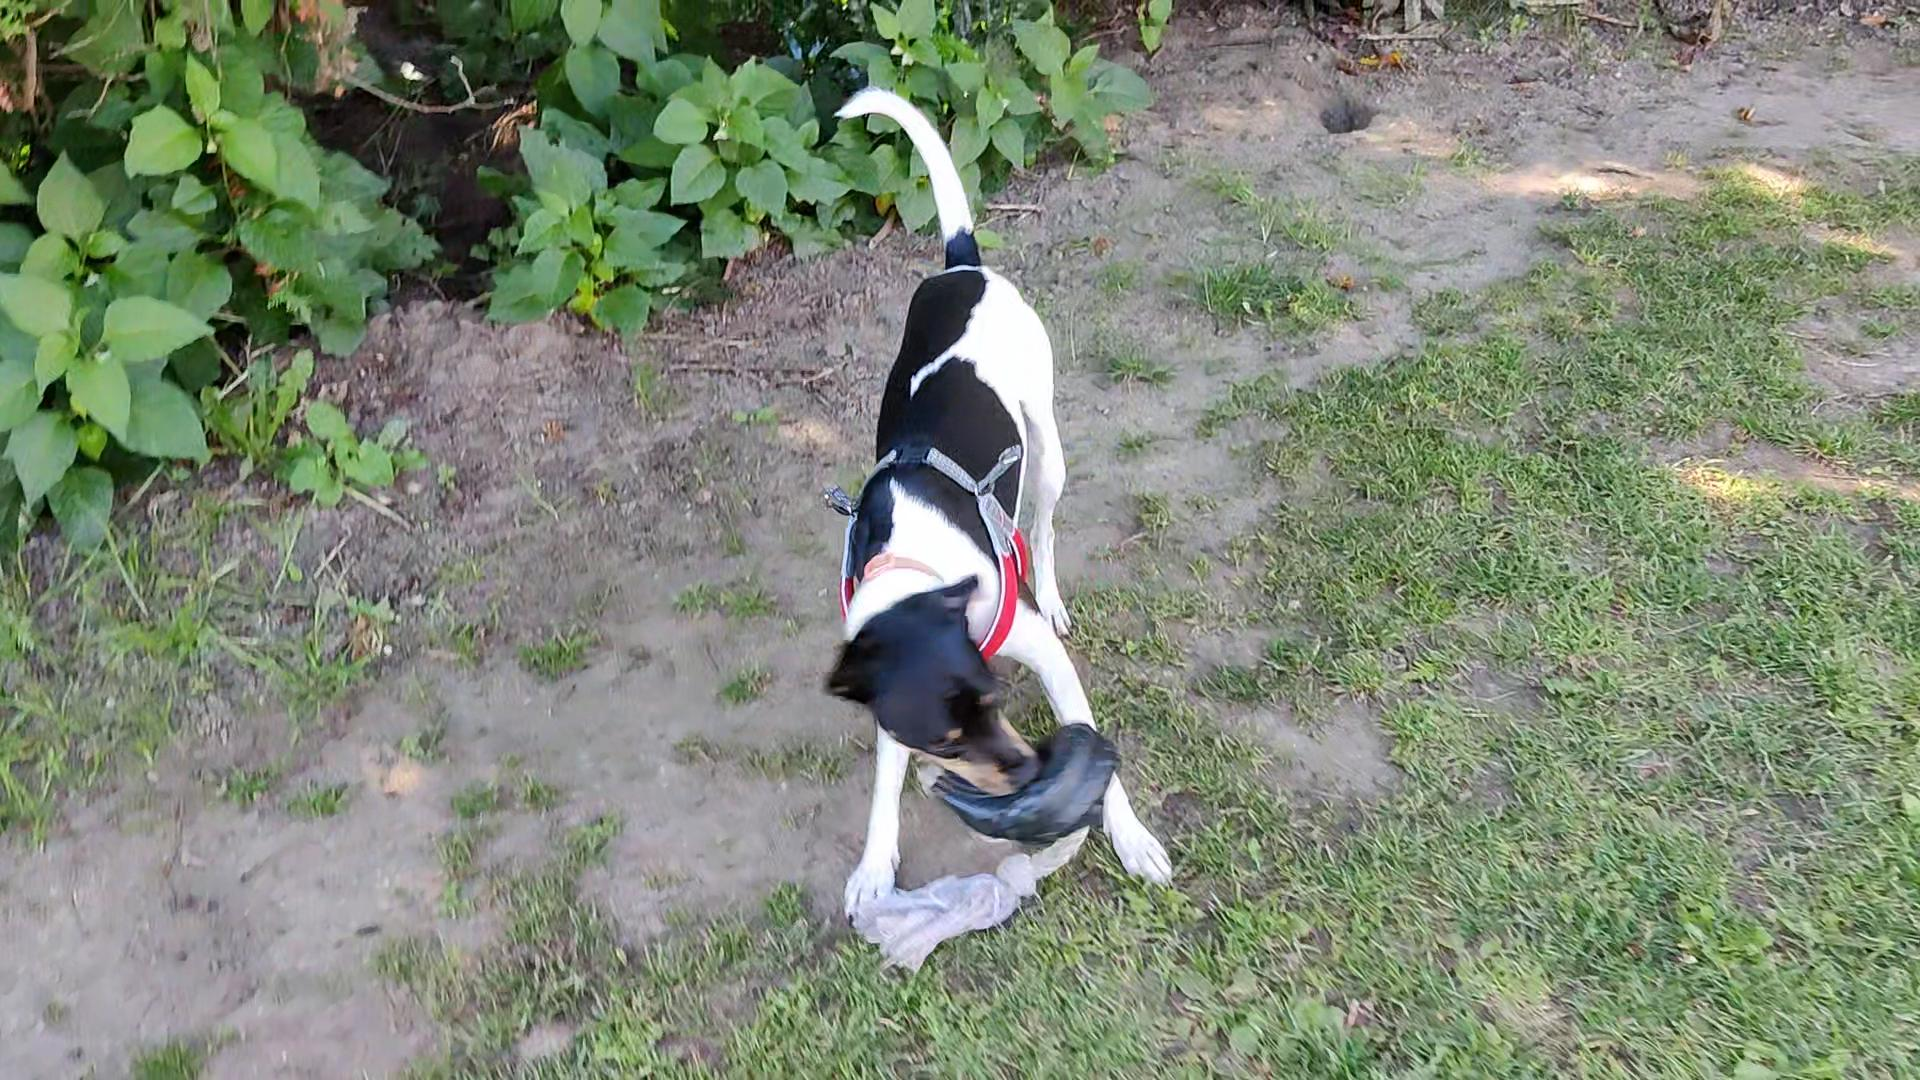Dog: (781, 70, 1196, 952)
